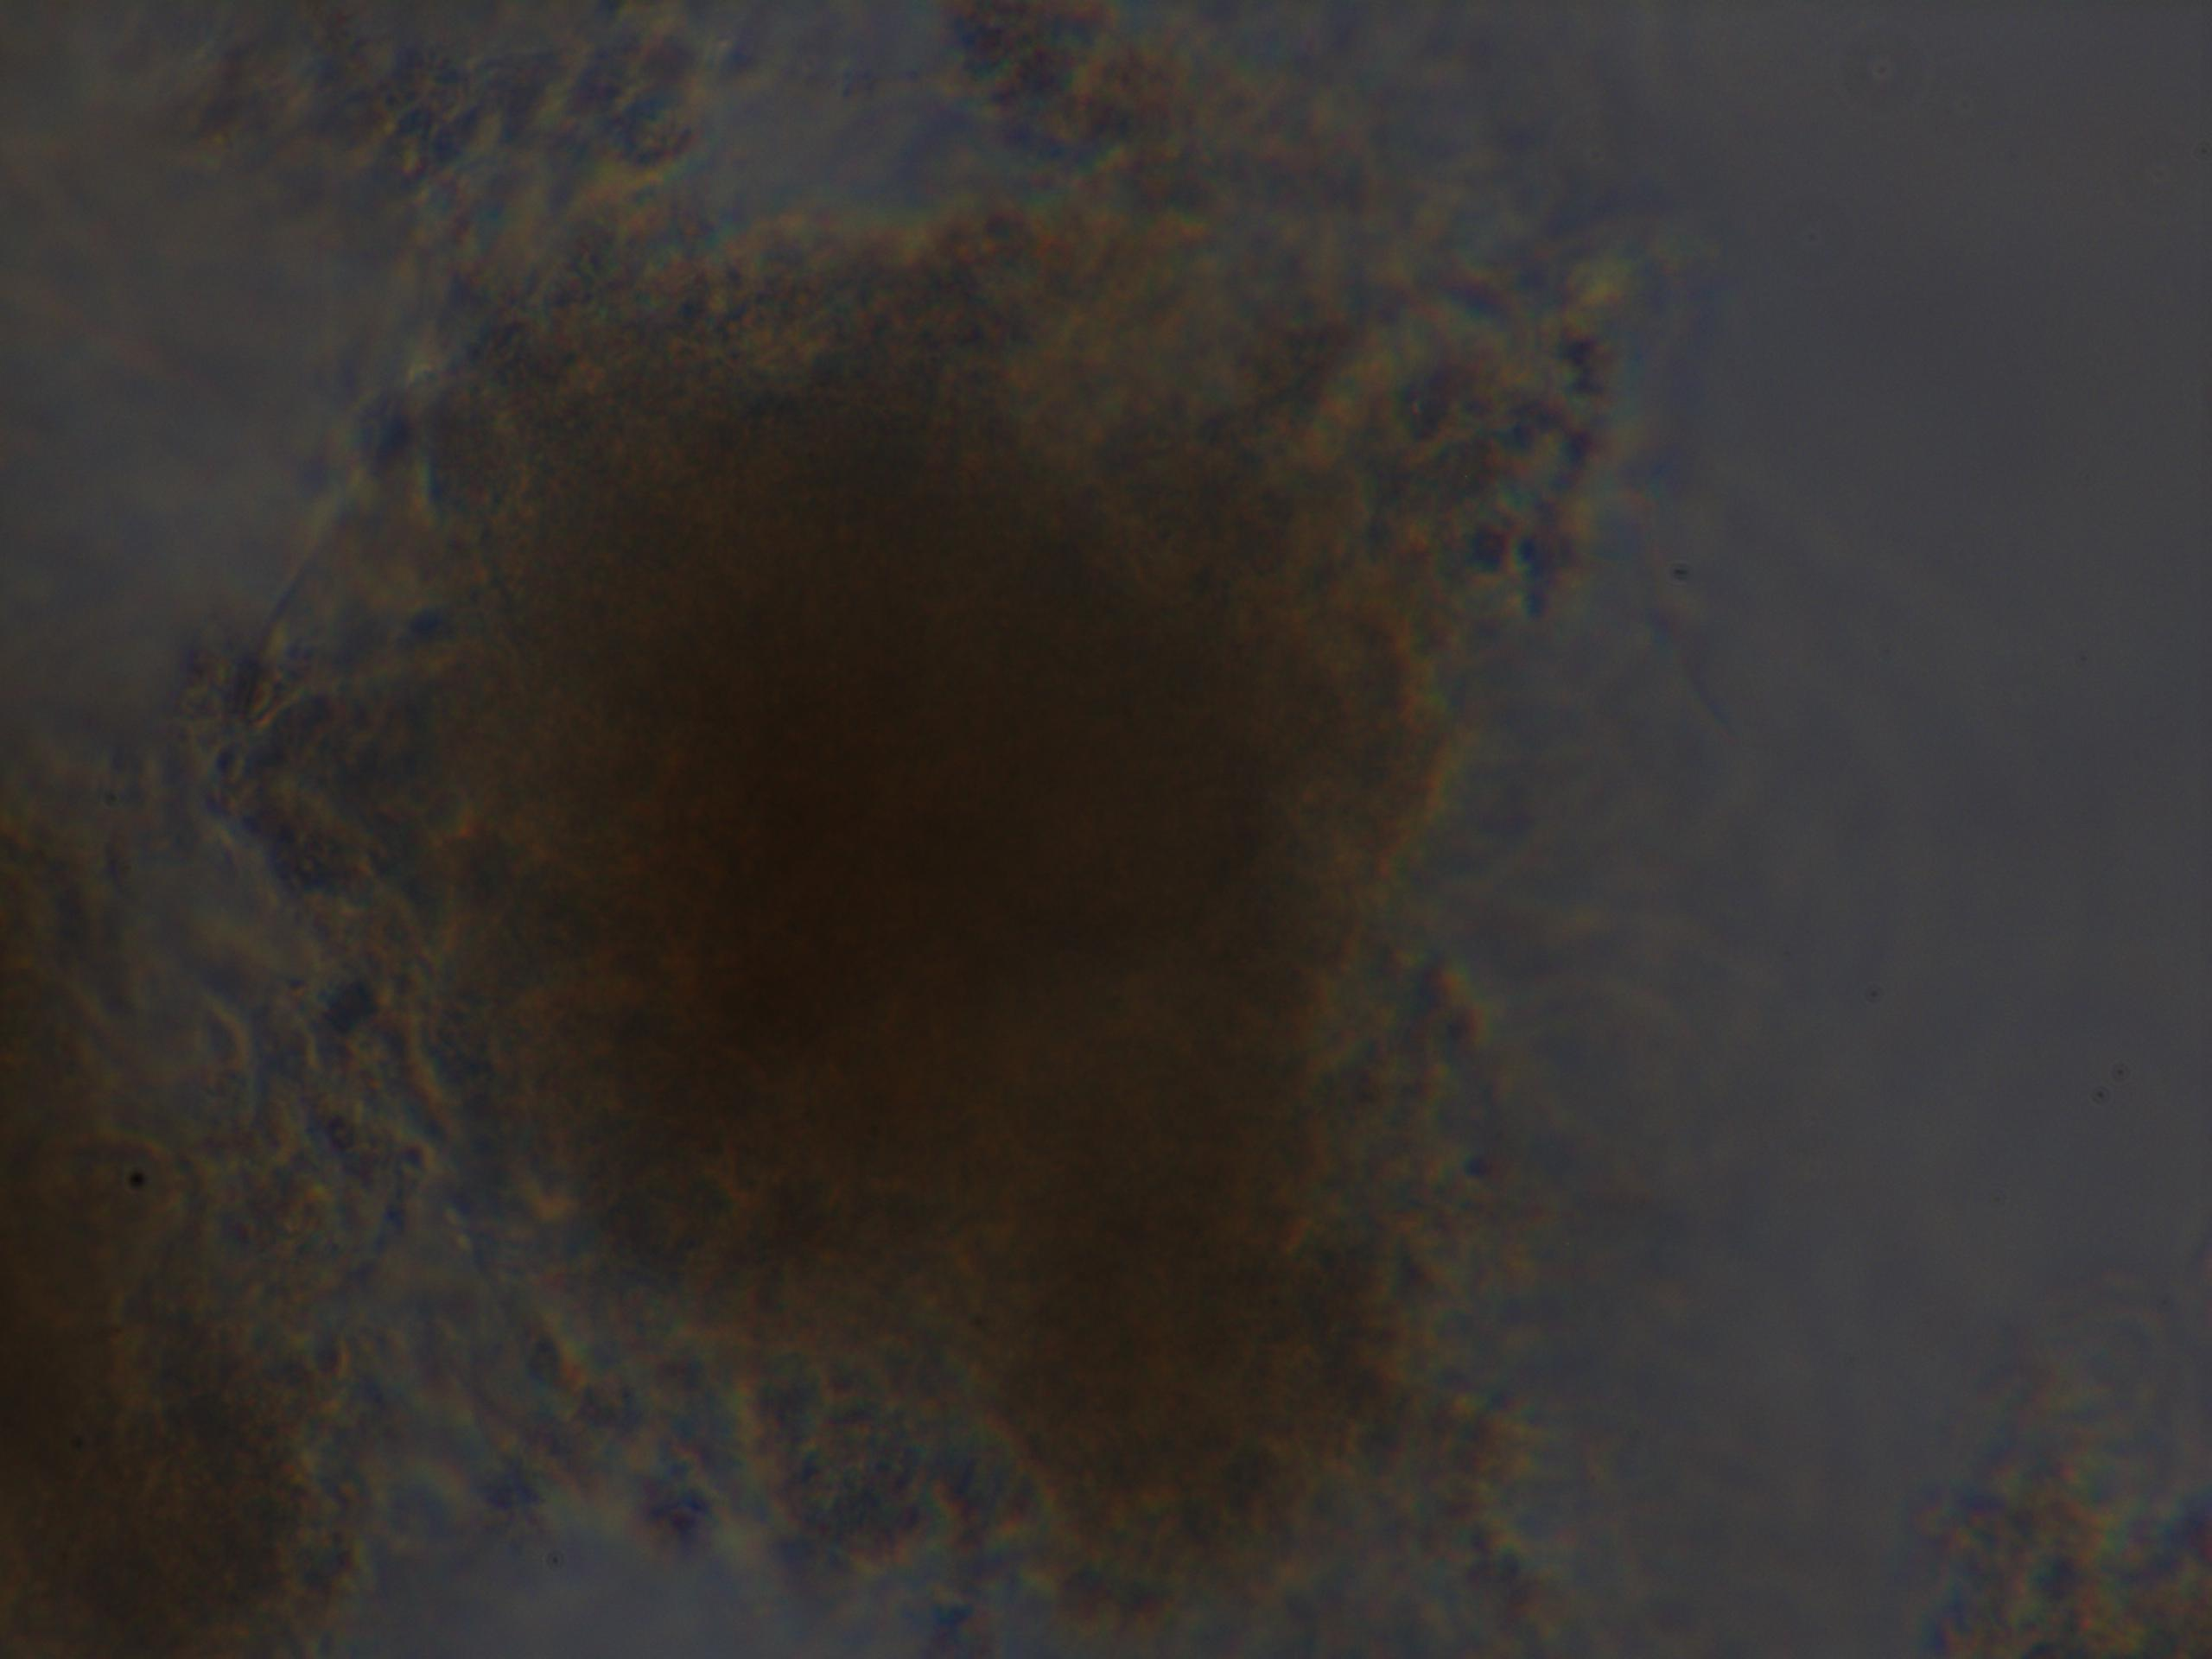spherical_floc: (322, 207, 1517, 1652)
